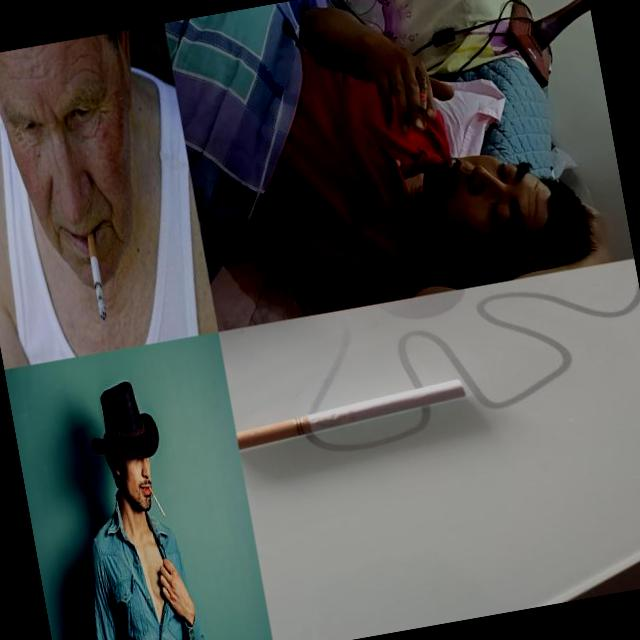smoke: (234, 378, 471, 450), (83, 225, 110, 321), (412, 76, 434, 130), (147, 483, 166, 520)
